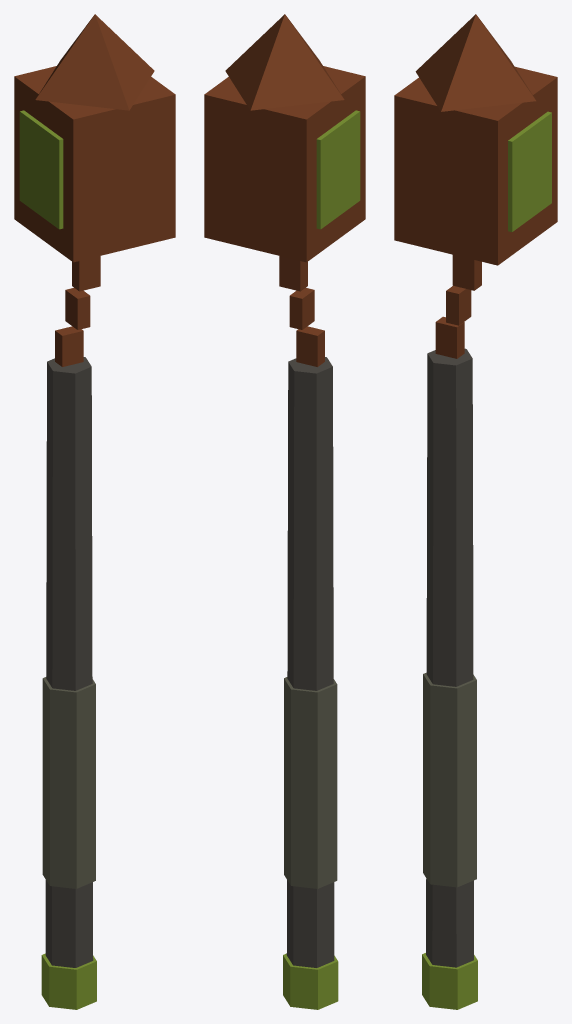
Rendered from weapon_warhammer.glb.
The picture shows the model from 3 angles, left to right: view 1: azimuth 30°, elevation 25°; view 2: azimuth 150°, elevation 25°; view 3: azimuth 330°, elevation 25°; orthographic projection.
Parts seen in each view (by area): view 1: ratfolk_weapon_warhammer; view 2: ratfolk_weapon_warhammer; view 3: ratfolk_weapon_warhammer.
Boxes of the visible parts, x1,y1,x2,y2 form: ratfolk_weapon_warhammer: [14, 14, 175, 1009]; ratfolk_weapon_warhammer: [204, 14, 365, 1009]; ratfolk_weapon_warhammer: [394, 14, 557, 1009].
Size of the model in its own units: 0.168 by 1.31 by 0.168.
